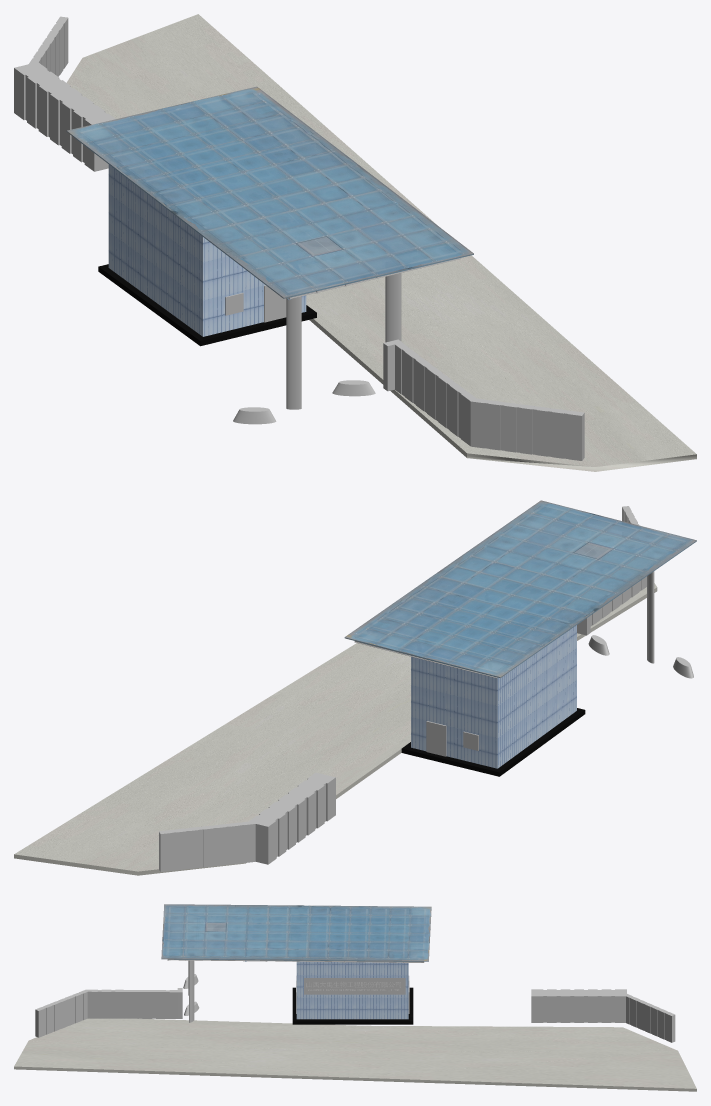
The picture shows the model from 3 angles, top to bottom: view 1: azimuth 30°, elevation 25°; view 2: azimuth 150°, elevation 25°; view 3: azimuth 270°, elevation 25°; orthographic projection. The views are drawn at different scales.
Parts seen in each view (by area): view 1: Box046, Box026, Box004, Box042, Box043, Box041, Box045, Cylinder003, Box044, Cylinder001; view 2: Box046, Box026, Box004, Box043, Box044, Box045, Cylinder003, Box029, Box041; view 3: Box046, Box026, Box004, Box043, Box041, Box005, Box042, Box044, Box045, Cylinder001, 对象015, Text001 (+1 smaller).
Boxes of the visible parts, left/top/right/bottom form: Box046: left=66, top=14, right=696, bottom=471; Box026: left=66, top=86, right=473, bottom=298; Box004: left=108, top=164, right=306, bottom=336; Box042: left=470, top=398, right=584, bottom=460; Box043: left=14, top=62, right=115, bottom=171; Box041: left=395, top=341, right=476, bottom=445; Box045: left=98, top=264, right=316, bottom=346; Cylinder003: left=286, top=296, right=301, bottom=409; Box044: left=29, top=16, right=68, bottom=76; Cylinder001: left=385, top=273, right=401, bottom=342; Box046: left=14, top=583, right=657, bottom=875; Box026: left=344, top=500, right=696, bottom=678; Box004: left=411, top=625, right=576, bottom=768; Box043: left=249, top=772, right=335, bottom=864; Box044: left=159, top=821, right=255, bottom=871; Box045: left=401, top=708, right=585, bottom=776; Cylinder003: left=647, top=571, right=654, bottom=663; Box029: left=426, top=721, right=446, bottom=756; Box041: left=590, top=576, right=646, bottom=626; Box046: left=14, top=1018, right=696, bottom=1091; Box026: left=161, top=904, right=431, bottom=961; Box004: left=296, top=961, right=408, bottom=1019; Box043: left=531, top=989, right=626, bottom=1022; Box041: left=86, top=989, right=177, bottom=1018; Box005: left=304, top=978, right=405, bottom=994; Box042: left=35, top=989, right=87, bottom=1037; Box044: left=624, top=994, right=675, bottom=1042; Box045: left=292, top=987, right=413, bottom=1024; Cylinder001: left=189, top=960, right=194, bottom=1022; 对象015: left=169, top=956, right=423, bottom=962; Text001: left=306, top=981, right=400, bottom=987.
Bounding box in the file's own units: 21.8 × 7.47 × 56.19.
